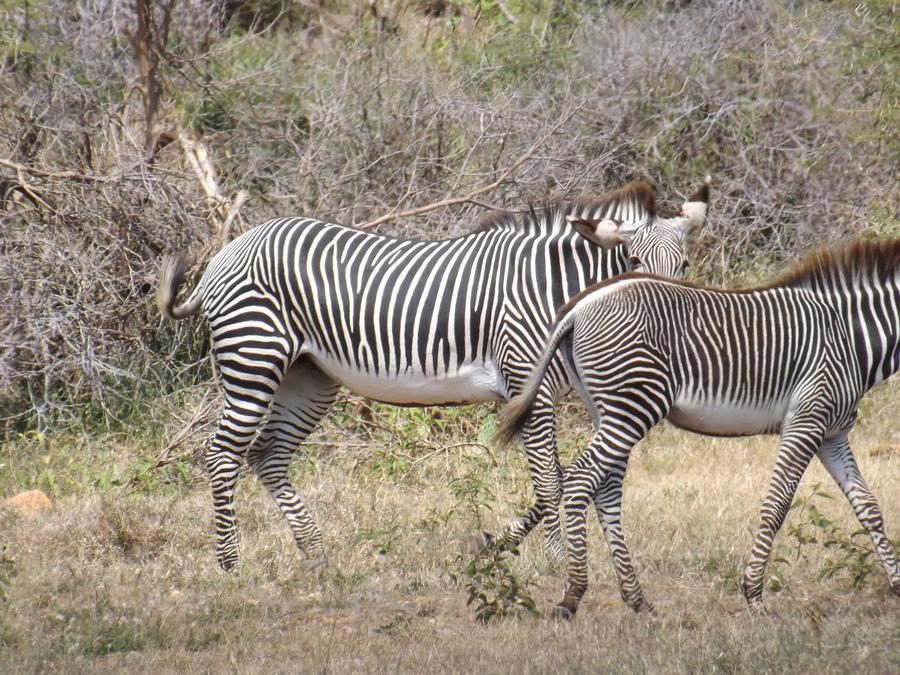zebra_grevys: (208, 208, 519, 377)
